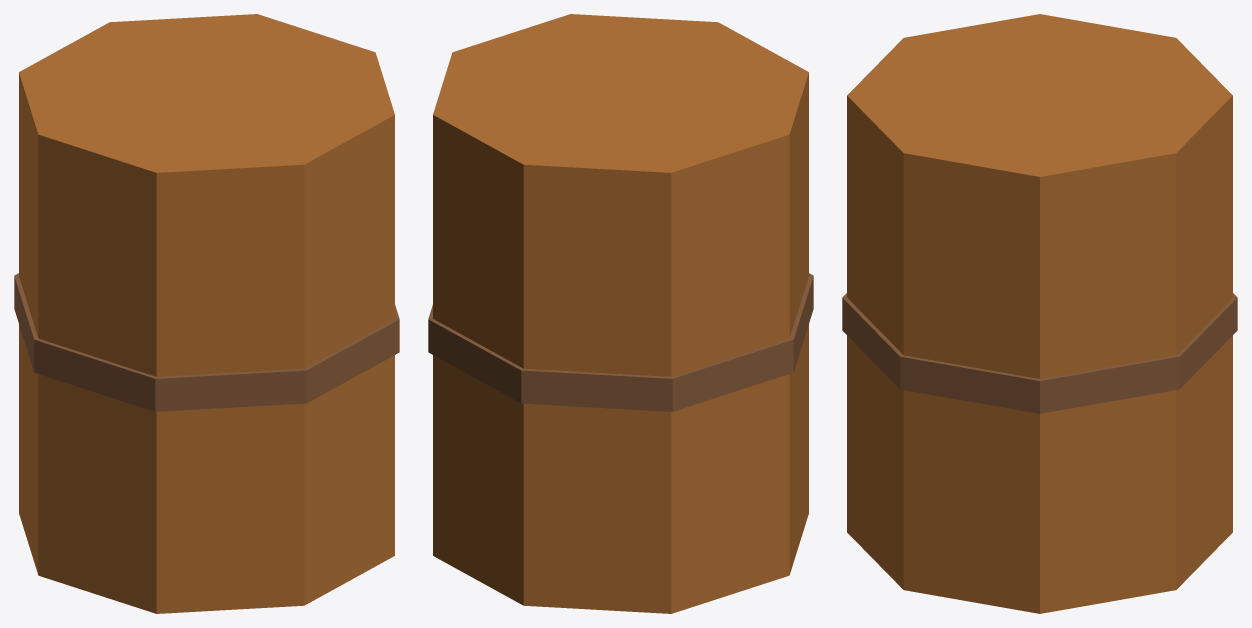
File: rocket_module_cabin.glb
The picture shows the model from 3 angles, left to right: view 1: azimuth 30°, elevation 25°; view 2: azimuth 150°, elevation 25°; view 3: azimuth 270°, elevation 25°; orthographic projection.
Parts seen in each view (by area): view 1: body, band; view 2: body, band; view 3: body, band.
Part boxes in pixels (x1,y1,x2,y2): body: (19, 14, 394, 613); band: (14, 273, 399, 411); body: (433, 14, 808, 613); band: (428, 273, 813, 411); body: (847, 14, 1232, 613); band: (842, 293, 1237, 413).
Size of the model in its own units: 1.64 by 2 by 1.64.
